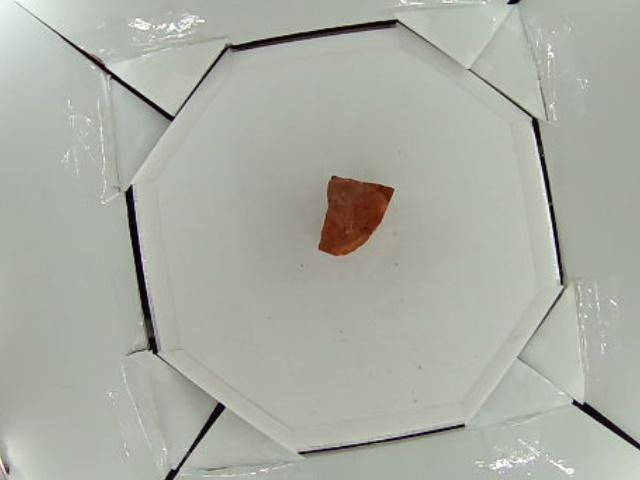Brisk: (318, 174, 397, 255)
